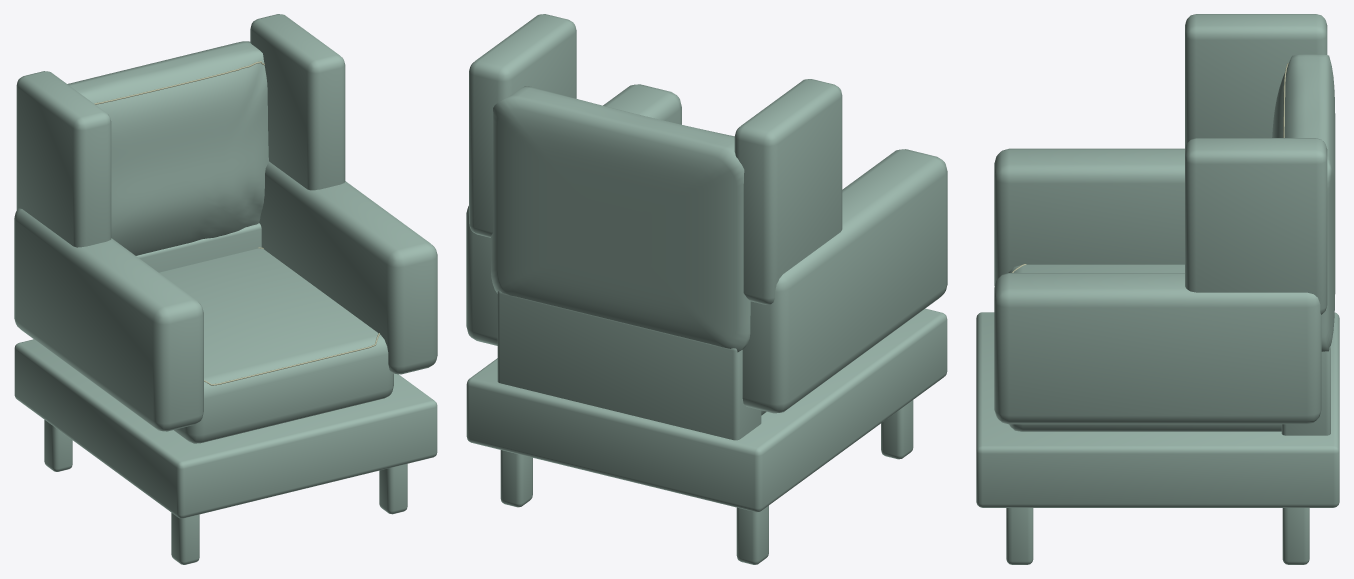
The model's file is wingback-chair.glb.
The picture shows the model from 3 angles, left to right: view 1: azimuth 30°, elevation 25°; view 2: azimuth 150°, elevation 25°; view 3: azimuth 270°, elevation 25°; orthographic projection. The views are drawn at different scales.
Visible parts, largest first — view 1: catalog_surface_RealismUV; view 2: catalog_surface_RealismUV; view 3: catalog_surface_RealismUV.
Part boxes in pixels (bbox=[...]): catalog_surface_RealismUV: bbox=[14, 14, 437, 564]; catalog_surface_RealismUV: bbox=[466, 14, 947, 564]; catalog_surface_RealismUV: bbox=[976, 14, 1339, 564].
Size of the model in its own units: 0.85 by 1.12 by 0.87.
